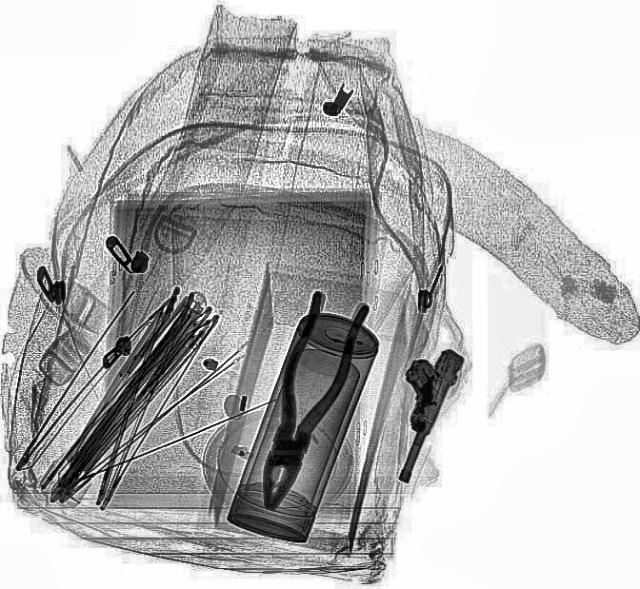Gun: (368, 340, 464, 482)
Pliers: (238, 288, 372, 516)
